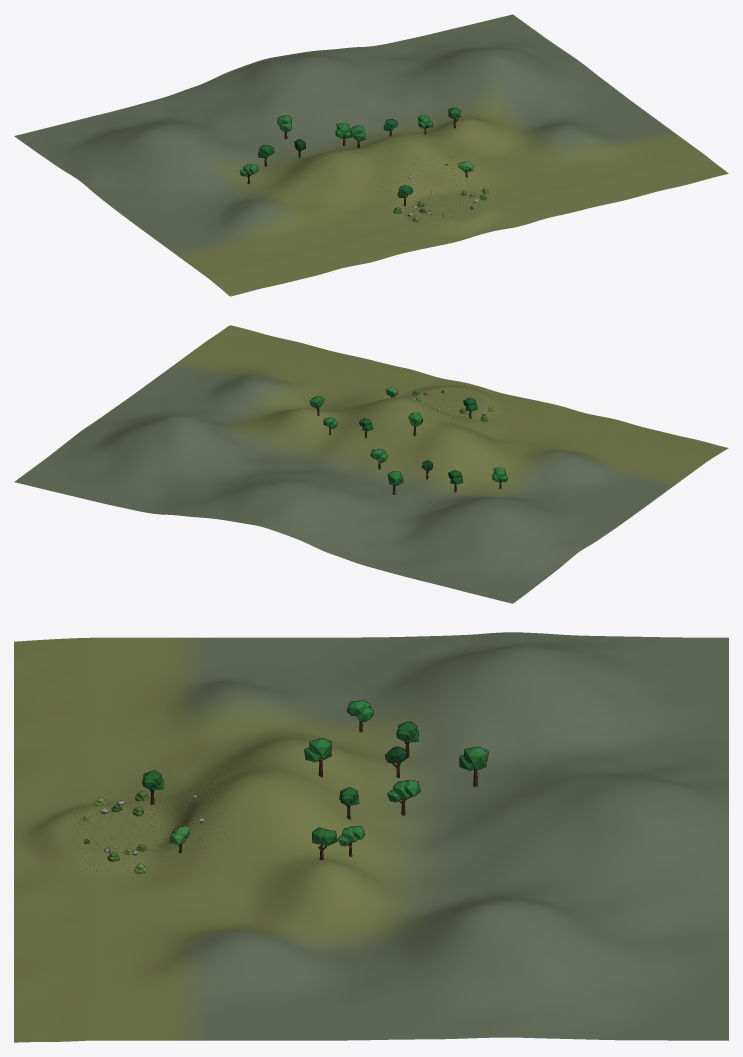
File: jackal_game_over.glb
The picture shows the model from 3 angles, top to bottom: view 1: azimuth 30°, elevation 25°; view 2: azimuth 150°, elevation 25°; view 3: azimuth 270°, elevation 25°; orthographic projection. The views are drawn at different scales.
Visible parts, largest first — view 1: GO_Hill; view 2: GO_Hill; view 3: GO_Hill, GO_Grass, ForestTree_6.
Part boxes in pixels (box(x1,y1,x2,y2)): GO_Hill: box(14, 14, 728, 296); GO_Hill: box(14, 325, 728, 603); GO_Hill: box(14, 632, 728, 1042); GO_Grass: box(73, 773, 229, 872); ForestTree_6: box(459, 747, 488, 786).
Size of the model in its own units: 128 by 12.25 by 96.
